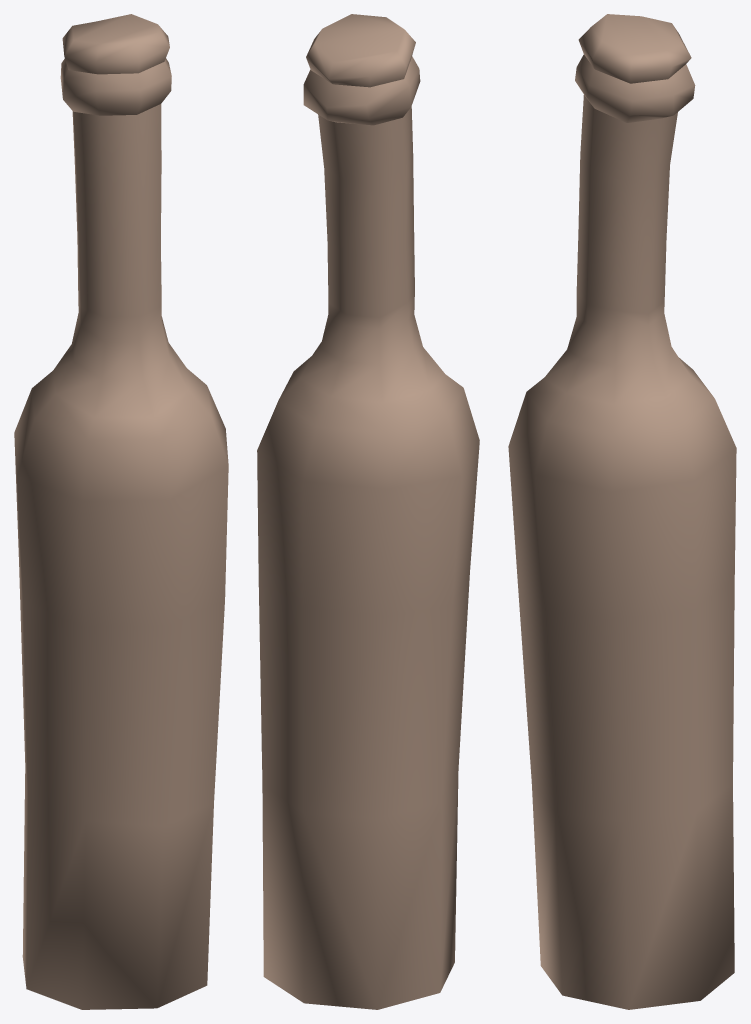
File: Bottle01.fbx
3 views of the same model, side by side, from view 1: azimuth 30°, elevation 25°; view 2: azimuth 150°, elevation 25°; view 3: azimuth 270°, elevation 25° (orthographic).
Parts seen in each view (by area): view 1: beer_bottle.001_0; view 2: beer_bottle.001_0; view 3: beer_bottle.001_0.
Boxes of the visible parts, left/top/right/bottom form: beer_bottle.001_0: left=14, top=14, right=228, bottom=1009; beer_bottle.001_0: left=257, top=14, right=479, bottom=1009; beer_bottle.001_0: left=508, top=14, right=736, bottom=1009.
Size of the model in its own units: 9.79 by 44.51 by 9.78.
